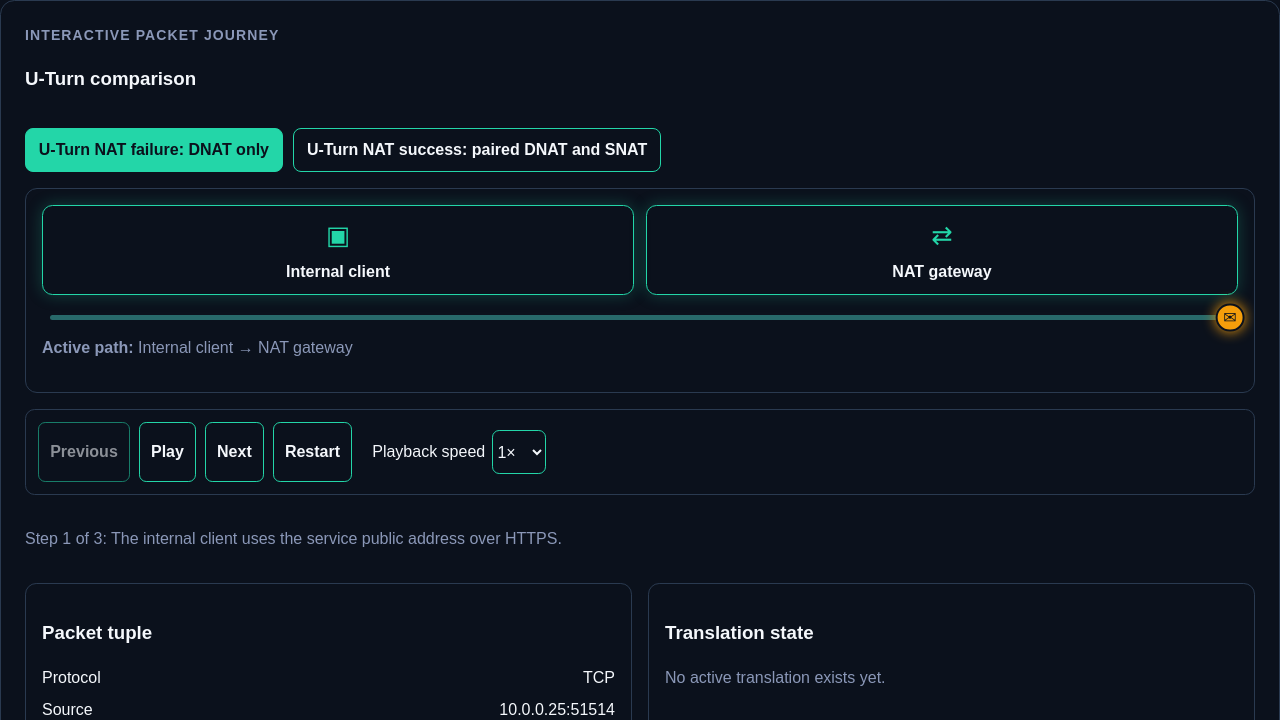
Test: NatJourneyPlayer › switches between failed and successful U-Turn paths from their first step
Click the button "U-Turn NAT success: paired DNAT and SNAT" at (477, 150), box [293,128,661,172]
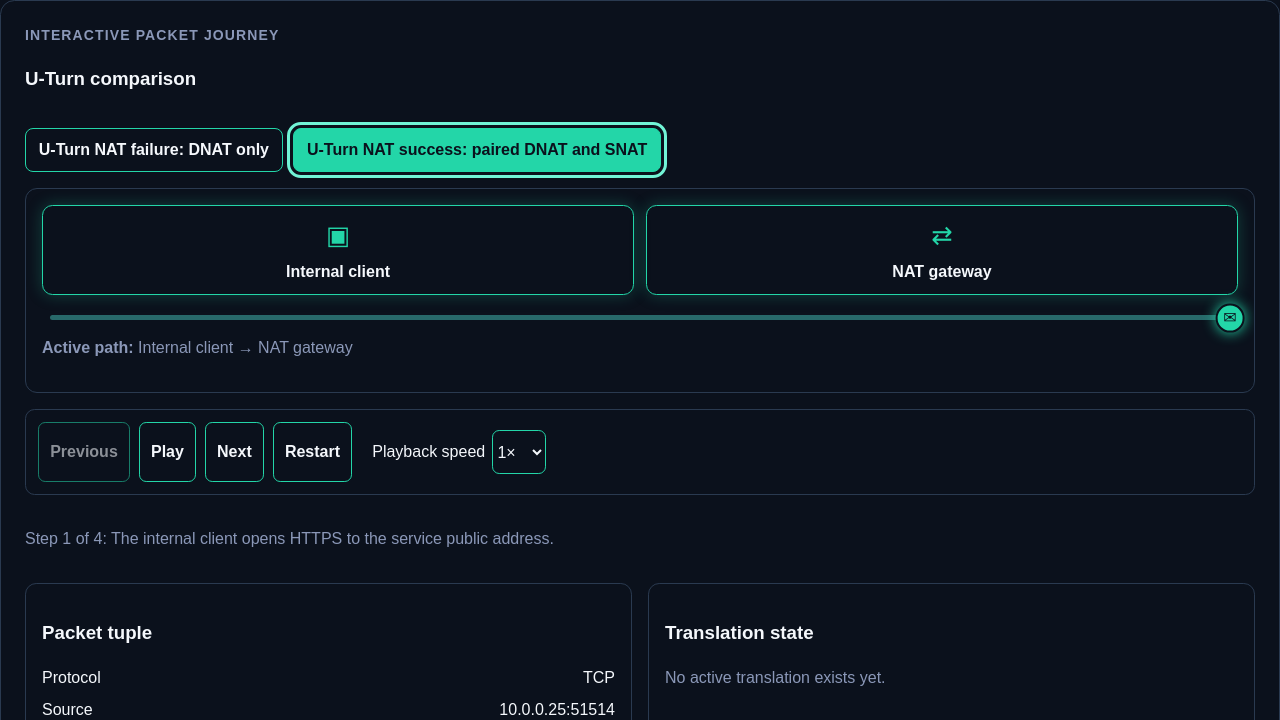
Check: the message shows "Step 1 of 4", box [25,530,554,547]
